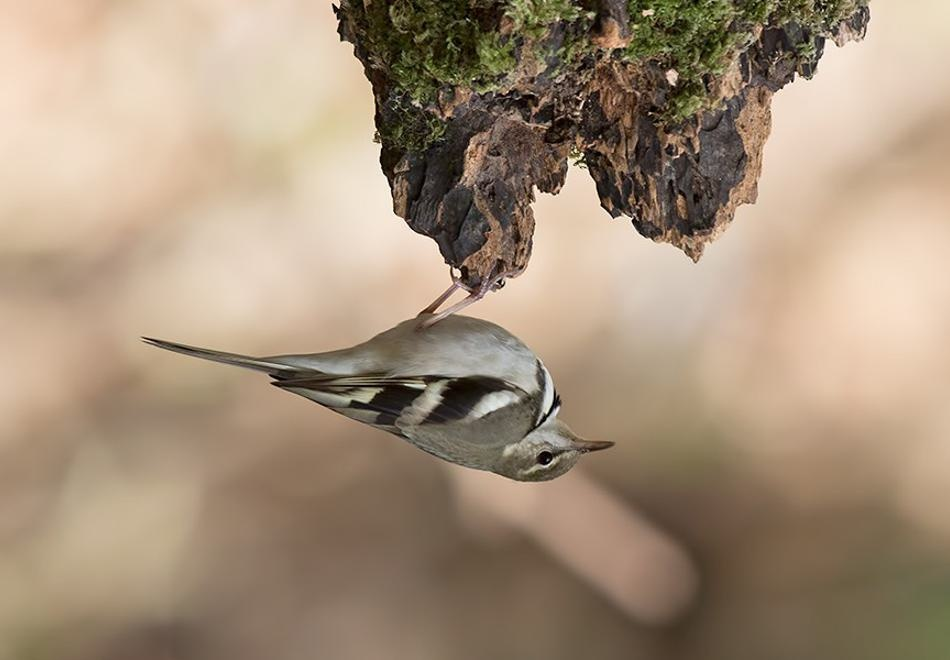wagtail: (224, 216, 623, 497)
